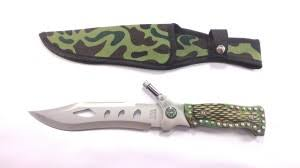knife: (17, 78, 273, 149)
